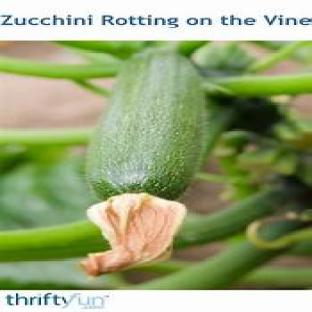Zucchini: (88, 50, 206, 199)
